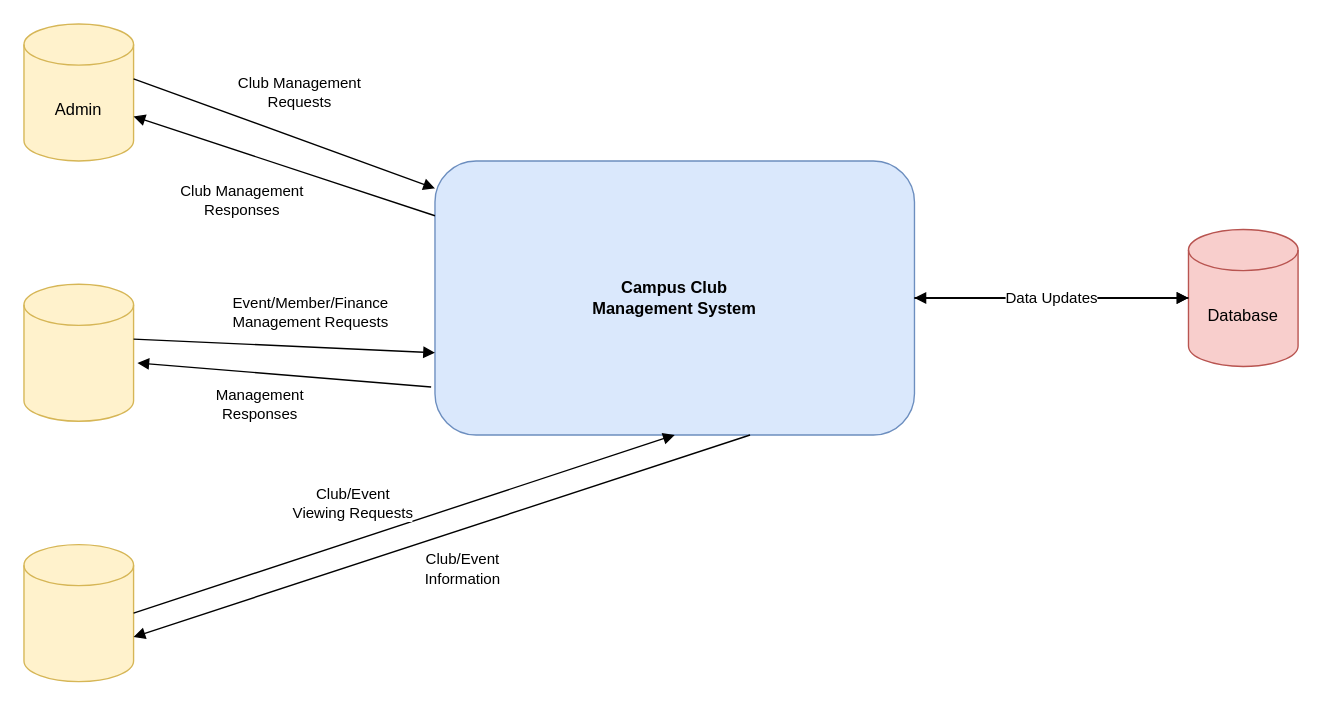
This 1322x706 diagram has some shape labels left out. The shapes that lost their labels are listed below. From the top down, each one's box as (x1, y1, x2, y2) in pixels, then its label:
(23, 283, 134, 421): Executive
(23, 543, 134, 682): Member
